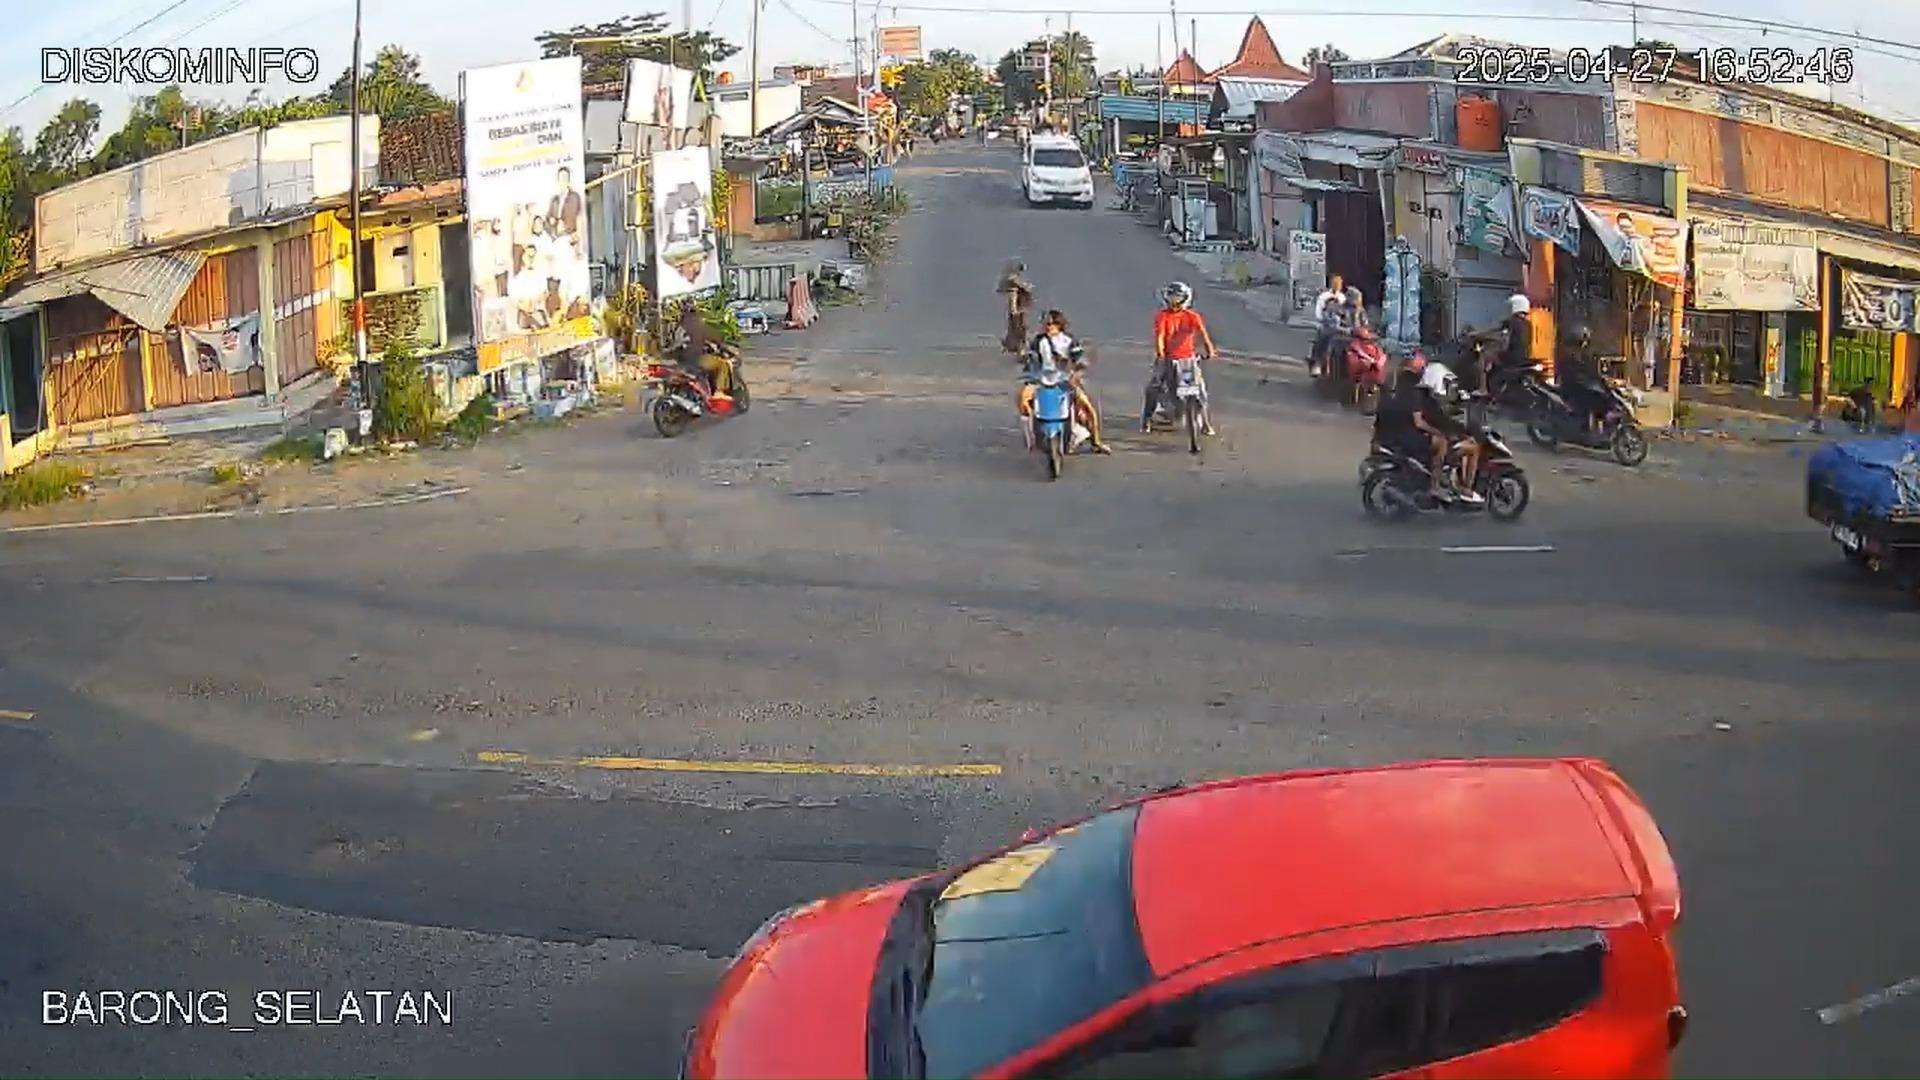Motor: (1356, 394, 1515, 522), (650, 299, 757, 438), (1519, 357, 1651, 465), (1015, 347, 1098, 481), (1147, 281, 1217, 438), (1453, 330, 1555, 430), (1341, 315, 1390, 407)
mobil: (684, 760, 1644, 1072)
